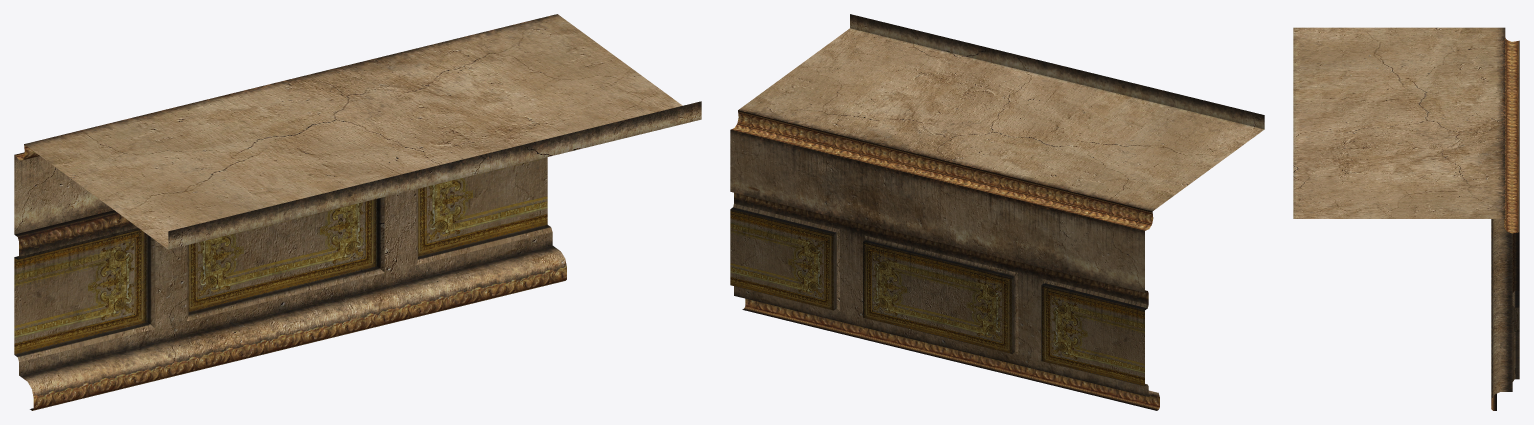
Rendered from concave.dae.
3 renders of one model, left to right at view 1: azimuth 30°, elevation 25°; view 2: azimuth 150°, elevation 25°; view 3: azimuth 270°, elevation 25°, orthographic. The views are drawn at different scales.
Parts seen in each view (by area): view 1: concave; view 2: concave; view 3: concave.
Boxes of the visible parts, <box> form: concave: <box>14,14,701,410</box>; concave: <box>730,14,1264,410</box>; concave: <box>1293,27,1519,410</box>.
Bounding box in the file's own units: 4 × 2 × 2.
